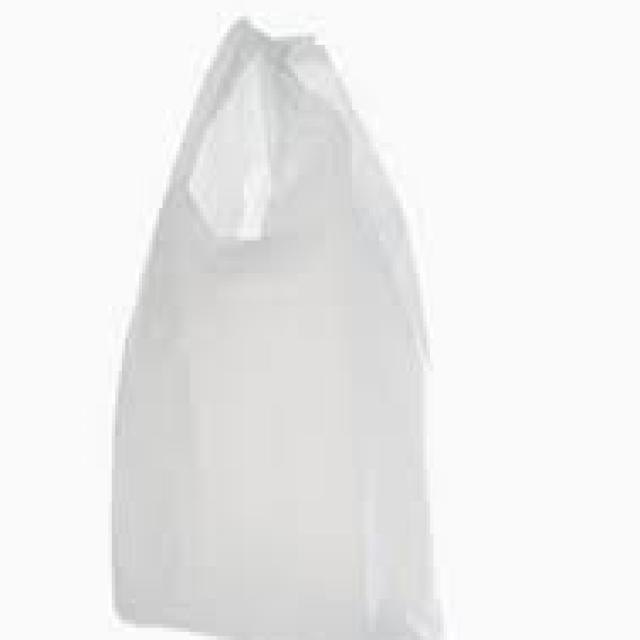organic: (92, 5, 519, 631)
